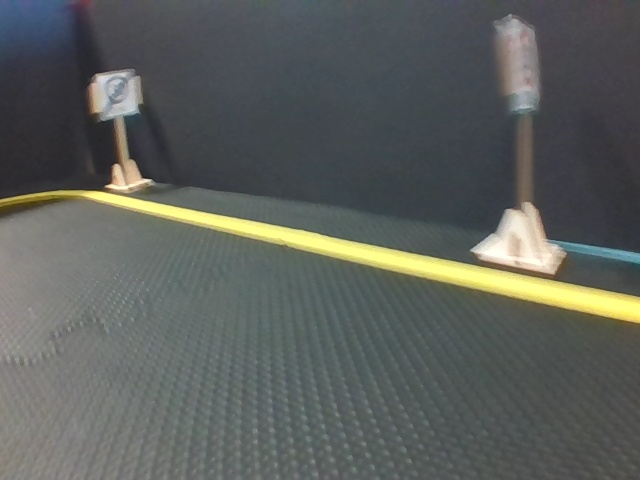30: (511, 19, 539, 107)
no30: (94, 71, 136, 114)
